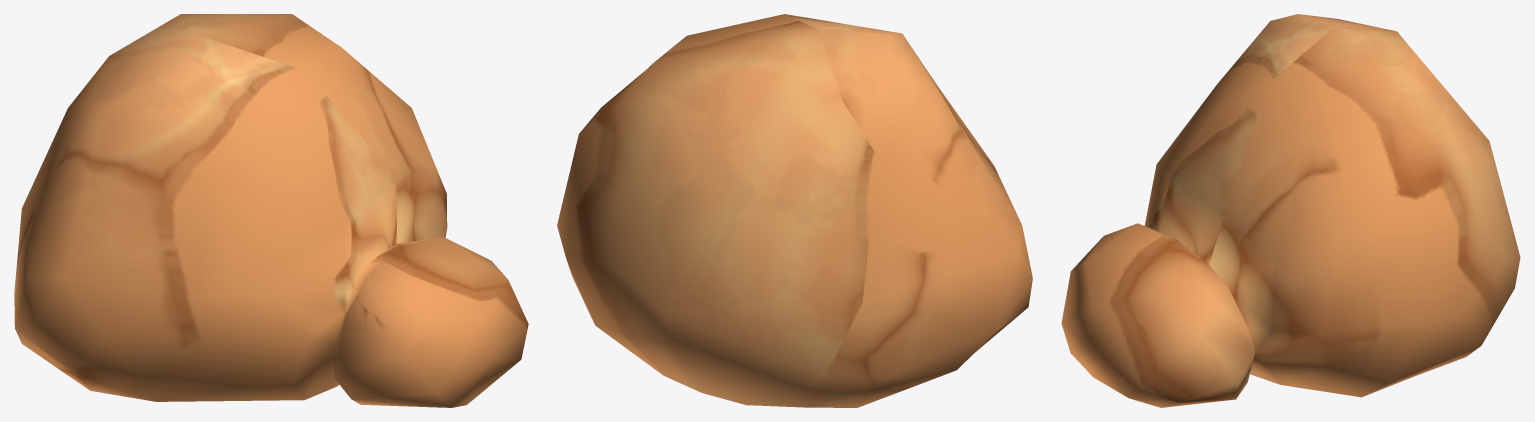
File: Subrock_4.fbx
3 views of the same model, side by side, from view 1: azimuth 30°, elevation 25°; view 2: azimuth 150°, elevation 25°; view 3: azimuth 270°, elevation 25° (orthographic). The views are drawn at different scales.
Parts seen in each view (by area): view 1: Rock_4_LOD0; view 2: Rock_4_LOD0; view 3: Rock_4_LOD0.
Part boxes in pixels (left/top/right/bottom): Rock_4_LOD0: left=14, top=14, right=528, bottom=407; Rock_4_LOD0: left=557, top=14, right=1032, bottom=407; Rock_4_LOD0: left=1061, top=14, right=1520, bottom=407.
Size of what is drawn, in the model's own units: 77.63 by 54.21 by 77.51.
